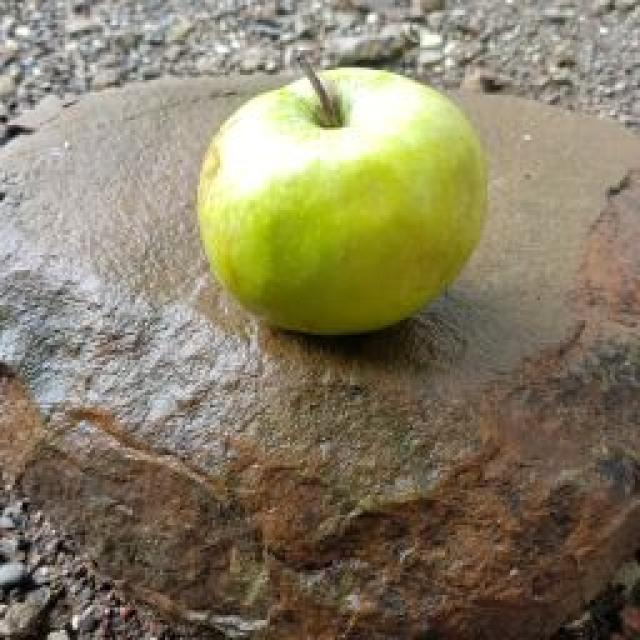Good_Apple: (200, 70, 486, 334)
